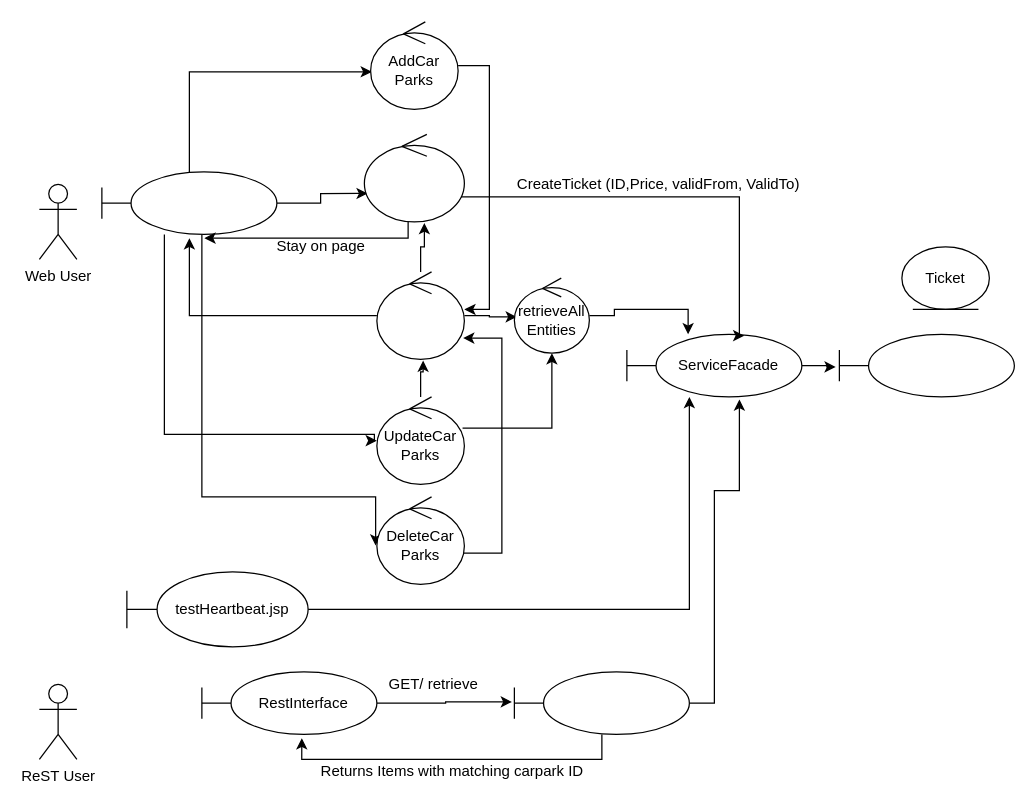
Some shapes in this 1036 by 808 pixel diagram are drawn without their labels. The centre of each missing label's shape, as x and y in pixels:
CreateMeter Charge: point (413, 177)
EntityDAO: point (926, 365)
ListCarParks: point (420, 315)
ParkingMeter.jsp: point (189, 202)
RestClient: point (601, 702)
